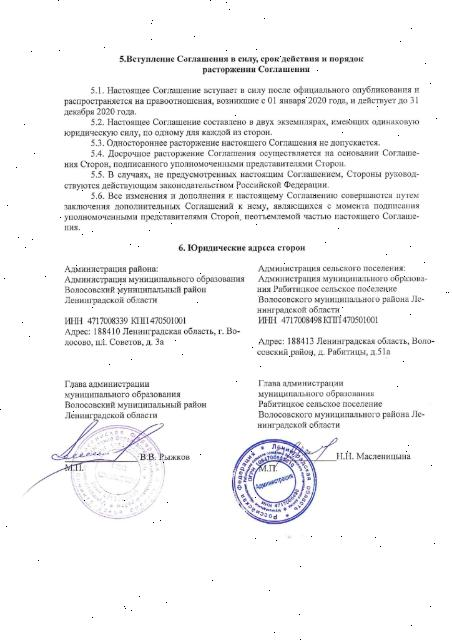stamp: (72, 425, 164, 519), (230, 438, 318, 524)
